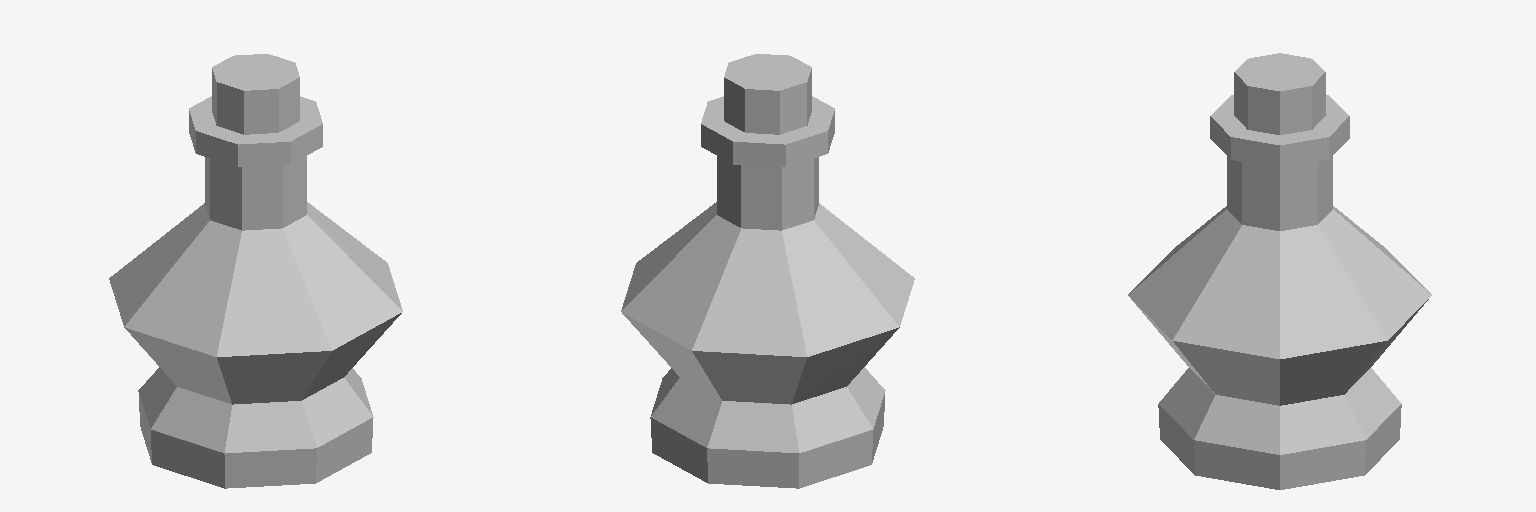
The model's file is misc023.obj.
The picture shows the model from 3 angles: view 1: azimuth 30°, elevation 25°; view 2: azimuth 150°, elevation 25°; view 3: azimuth 270°, elevation 25°; orthographic projection.
Parts seen in each view (by area): view 1: misc023; view 2: misc023; view 3: misc023.
Boxes of the visible parts, x1,y1,x2,y2 form: misc023: [109, 54, 402, 488]; misc023: [621, 54, 914, 488]; misc023: [1128, 53, 1431, 489].
Size of the model in its own units: 0.0039 by 0.0052 by 0.0039.